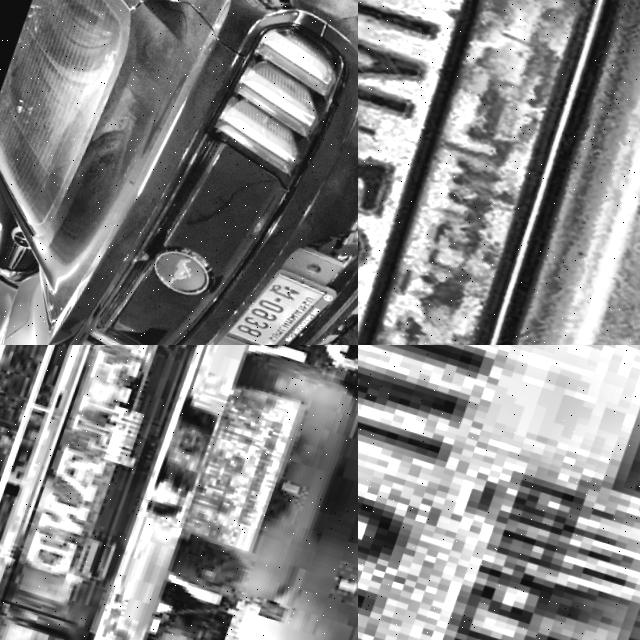license-plate: (358, 0, 640, 345), (358, 345, 640, 640), (166, 363, 322, 570), (224, 248, 350, 345)
